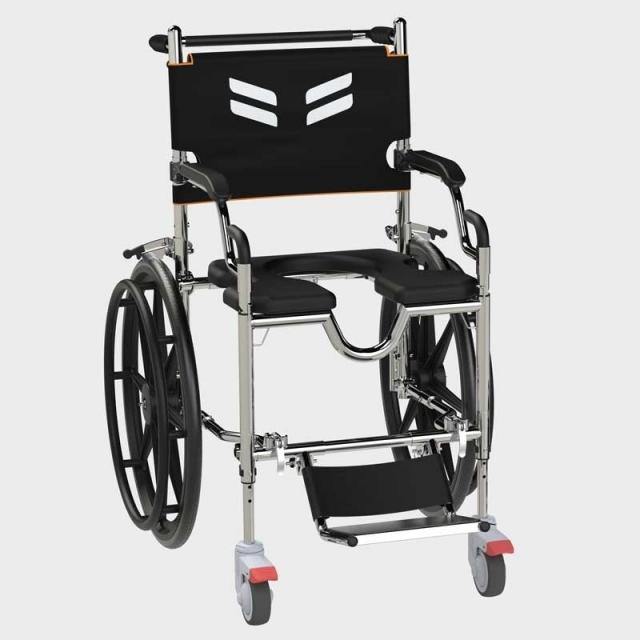wheelchair: (95, 10, 548, 638)
